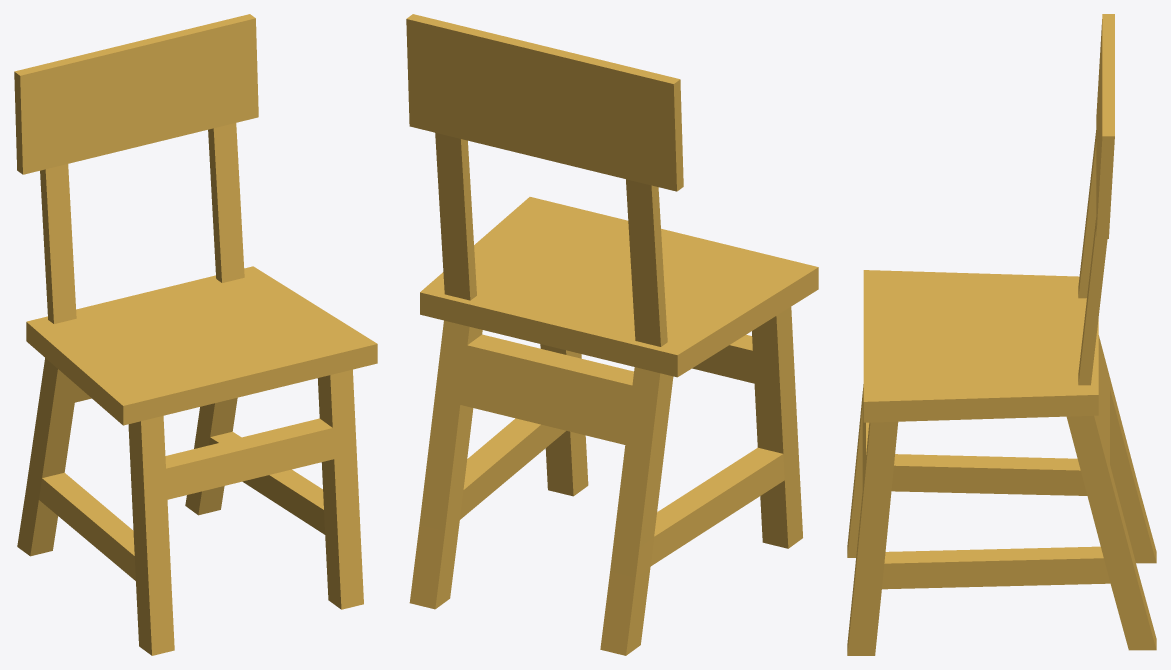
The model's file is Chair.fbx.
The picture shows the model from 3 angles, left to right: view 1: azimuth 30°, elevation 25°; view 2: azimuth 150°, elevation 25°; view 3: azimuth 270°, elevation 25°; orthographic projection. The views are drawn at different scales.
Parts seen in each view (by area): view 1: Chair; view 2: Chair; view 3: Chair.
Boxes of the visible parts, x1,y1,x2,y2 form: Chair: (14,14,377,655); Chair: (406,14,818,655); Chair: (847,14,1156,655).
Size of the model in its own units: 67.57 by 126 by 66.91.
